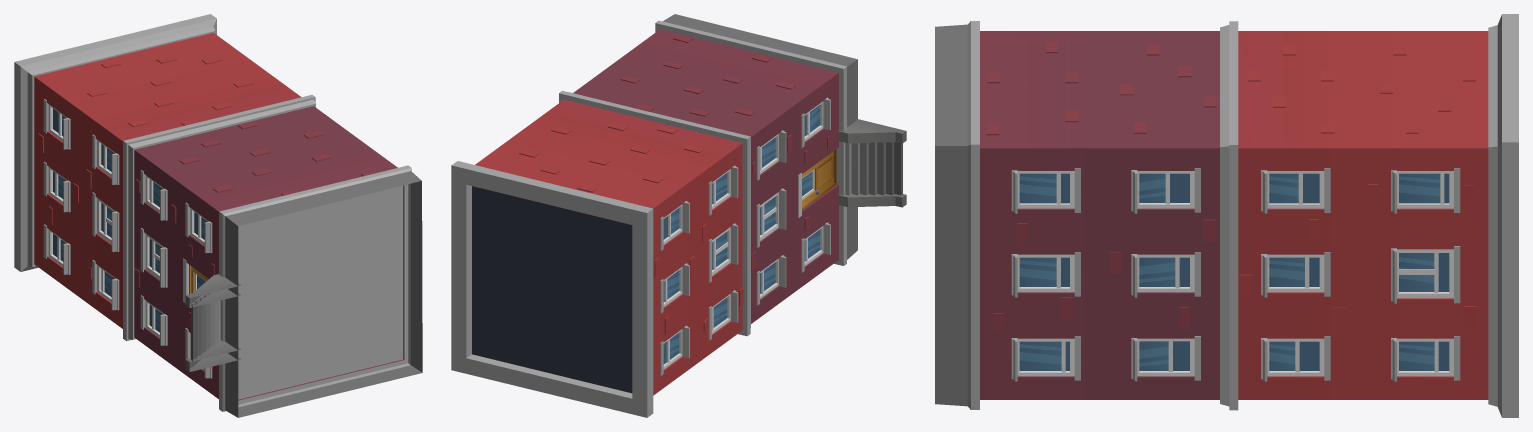
File: Building_2_8_J.fbx
3 views of the same model, side by side, from view 1: azimuth 30°, elevation 25°; view 2: azimuth 150°, elevation 25°; view 3: azimuth 270°, elevation 25° (orthographic). The views are drawn at different scales.
Parts seen in each view (by area): view 1: Building_2_8_J; view 2: Building_2_8_J; view 3: Building_2_8_J.
Part boxes in pixels (x1,y1,x2,y2): Building_2_8_J: [14, 14, 422, 417]; Building_2_8_J: [451, 14, 906, 417]; Building_2_8_J: [935, 14, 1518, 417].
Size of the model in its own units: 754 by 620 by 1191.
